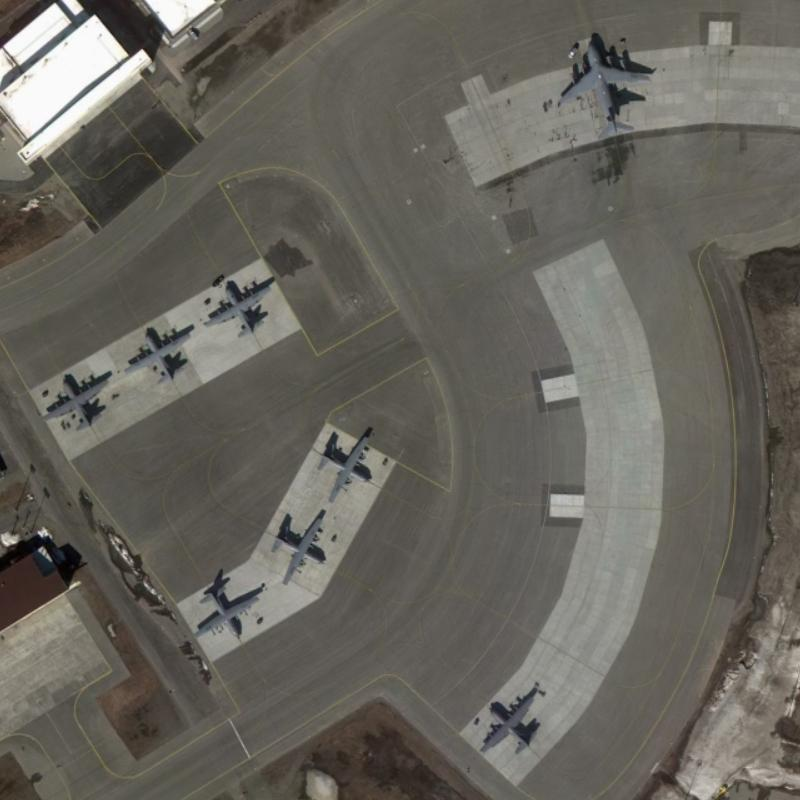A2: (469, 672, 548, 760), (301, 422, 383, 504), (258, 504, 335, 590), (195, 270, 285, 343), (184, 569, 267, 647), (36, 365, 116, 436), (120, 318, 200, 388)
A3: (551, 31, 658, 145)
